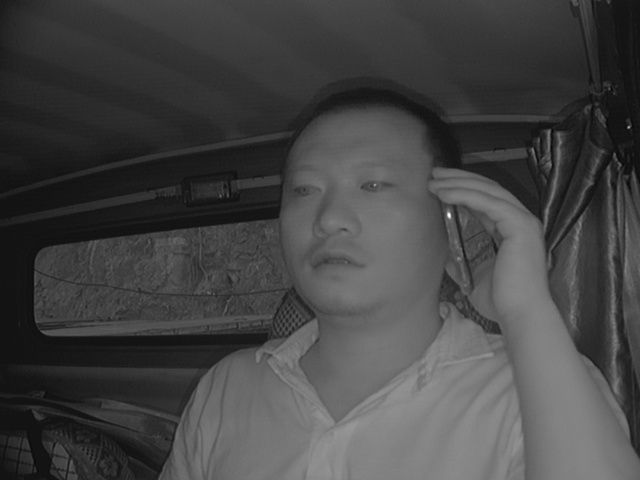hand: (424, 164, 544, 323)
